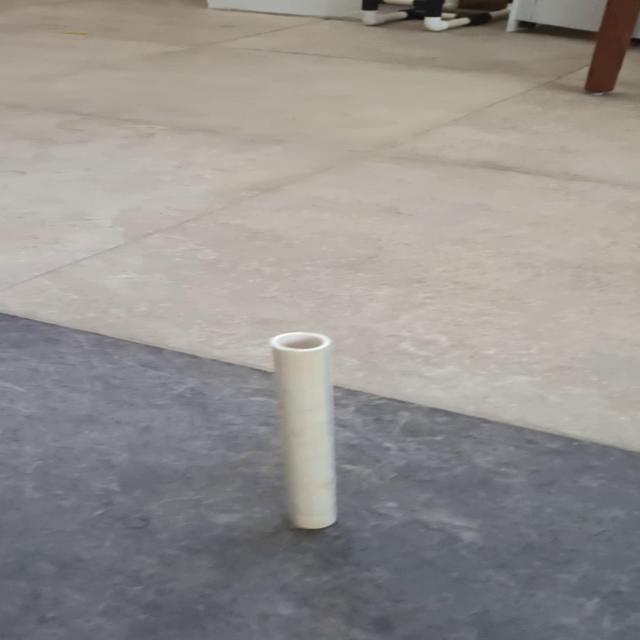Cube: (268, 330, 338, 530)
